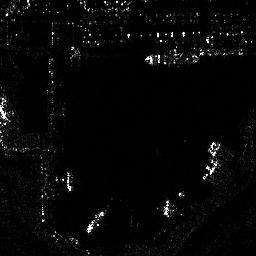ship: (144, 52, 201, 67), (88, 210, 104, 233), (66, 170, 74, 193)
